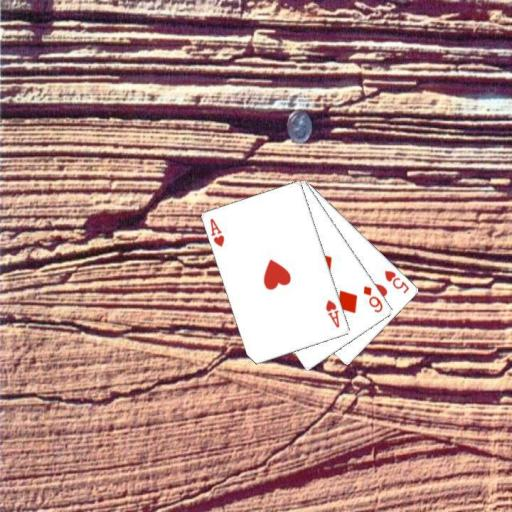5H: (382, 267, 411, 295)
6D: (360, 283, 385, 314)
AH: (207, 216, 226, 248), (323, 297, 341, 329)
